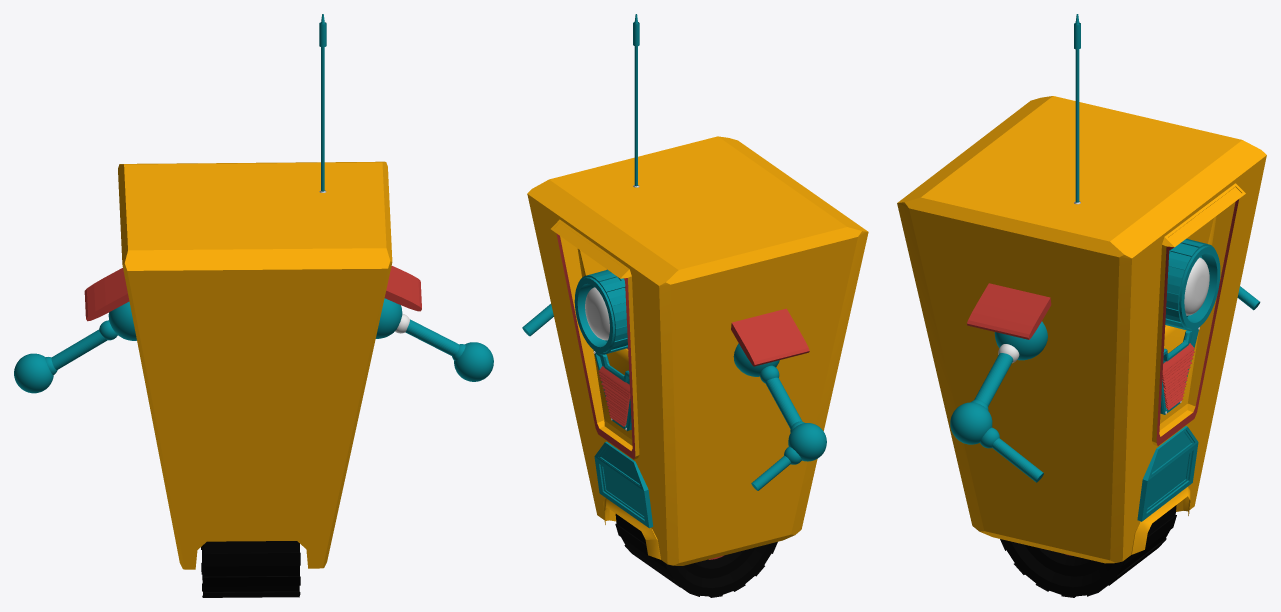
File: borderlnds.fbx
The picture shows the model from 3 angles, left to right: view 1: azimuth 30°, elevation 25°; view 2: azimuth 150°, elevation 25°; view 3: azimuth 270°, elevation 25°; orthographic projection. The views are drawn at different scales.
Visible parts, largest first — view 1: body, hands, wheel, yshki, antena; view 2: body, wheel, hands, eye, yshki, boxniz, seetka, antena, setka; view 3: body, wheel, hands, eye, boxniz, yshki, seetka, antena, setka.
Boxes of the visible parts, bbox=[...] form: body: bbox=[118, 161, 392, 569]; hands: bbox=[14, 298, 493, 393]; wheel: bbox=[201, 541, 300, 597]; yshki: bbox=[84, 266, 421, 321]; antena: bbox=[319, 14, 326, 191]; body: bbox=[527, 136, 868, 565]; wheel: bbox=[615, 514, 777, 597]; hands: bbox=[522, 304, 826, 490]; eye: bbox=[574, 269, 627, 354]; yshki: bbox=[731, 308, 809, 366]; boxniz: bbox=[594, 441, 653, 528]; seetka: bbox=[598, 366, 630, 426]; antena: bbox=[633, 14, 639, 186]; setka: bbox=[593, 350, 631, 431]; body: bbox=[897, 96, 1266, 563]; wheel: bbox=[1000, 505, 1176, 597]; hands: bbox=[950, 286, 1260, 482]; eye: bbox=[1165, 238, 1220, 331]; boxniz: bbox=[1137, 426, 1198, 521]; yshki: bbox=[967, 283, 1051, 339]; seetka: bbox=[1162, 343, 1194, 410]; antena: bbox=[1074, 14, 1080, 202]; setka: bbox=[1160, 328, 1198, 414].
Bounding box in the file's own units: 84.5 × 118 × 66.01.
